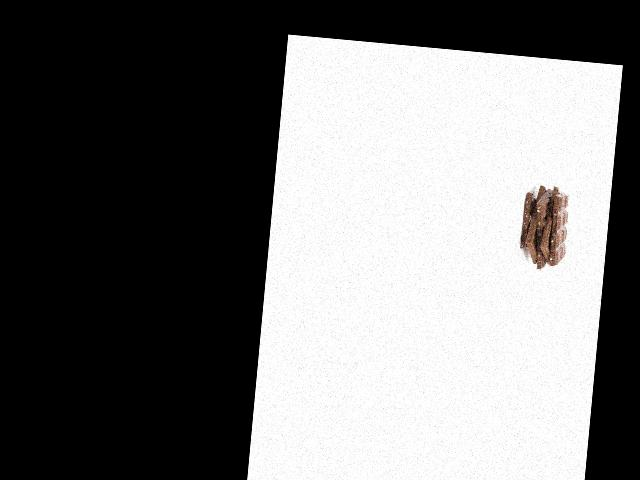chocolate: (514, 185, 552, 264)
